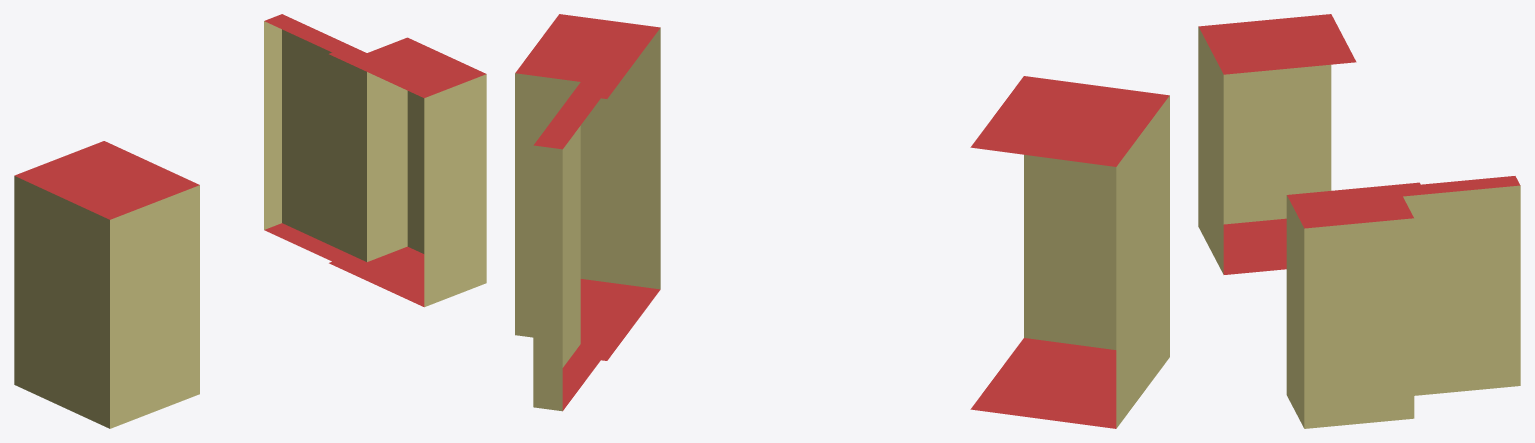
3 views of the same model, side by side, from view 1: azimuth 30°, elevation 25°; view 2: azimuth 150°, elevation 25°; view 3: azimuth 270°, elevation 25° (orthographic). The views are drawn at different scales.
Size of the model in its own units: 16.13 by 10.23 by 7.03.
